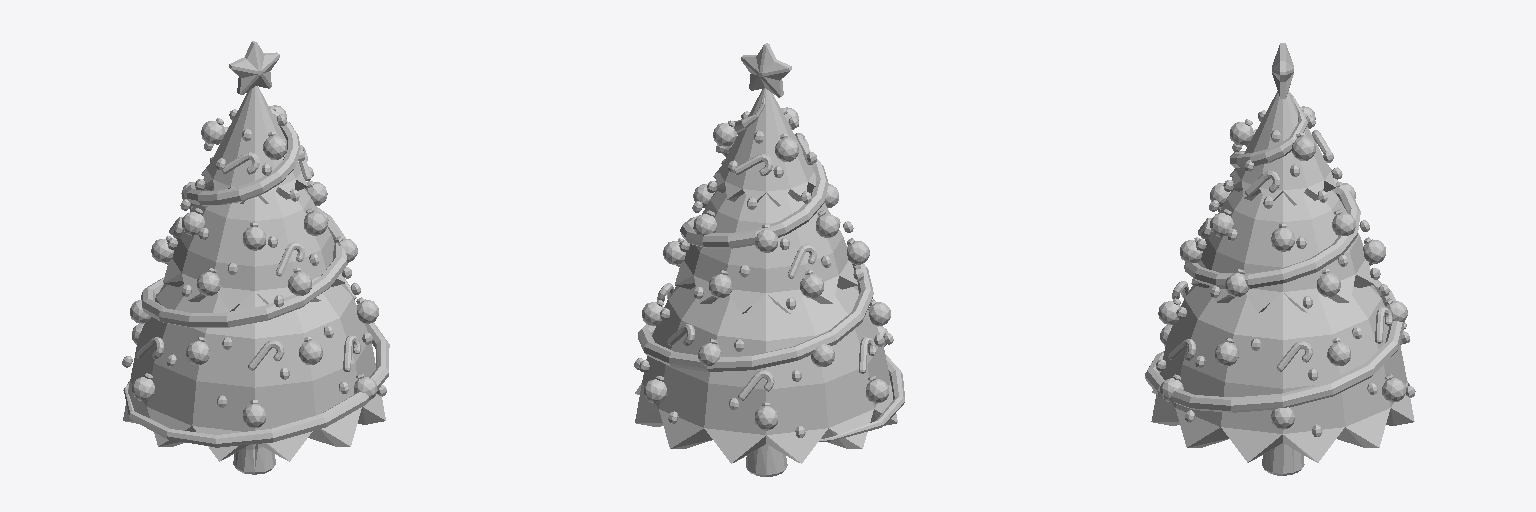
Rendered from christmas_tree.obj.
The picture shows the model from 3 angles: view 1: azimuth 30°, elevation 25°; view 2: azimuth 150°, elevation 25°; view 3: azimuth 270°, elevation 25°; orthographic projection.
Parts seen in each view (by area): view 1: christmas_tree; view 2: christmas_tree; view 3: christmas_tree.
Part boxes in pixels (x1,y1,x2,y2): christmas_tree: (122,41,389,474); christmas_tree: (634,43,904,476); christmas_tree: (1145,43,1415,475).
Size of the model in its own units: 2.41 by 4.03 by 2.33.